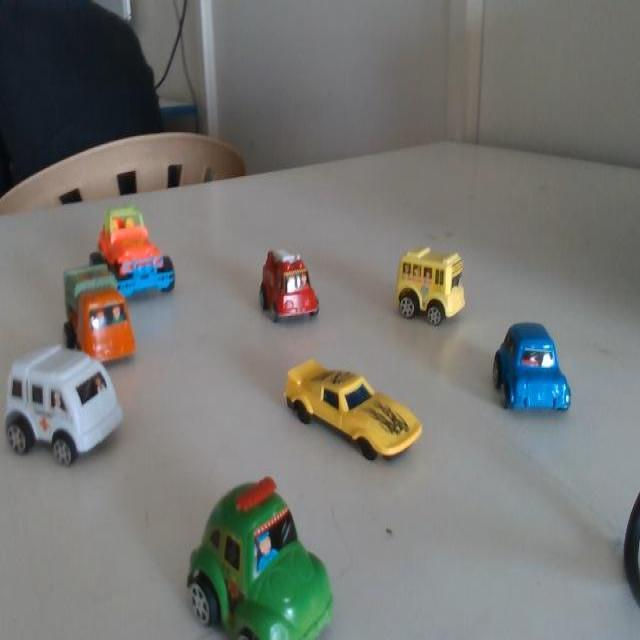car: (174, 472, 353, 639), (2, 322, 139, 492), (288, 350, 418, 470), (106, 198, 186, 298), (387, 244, 470, 340), (250, 237, 322, 340), (68, 258, 132, 370), (498, 322, 571, 418)
